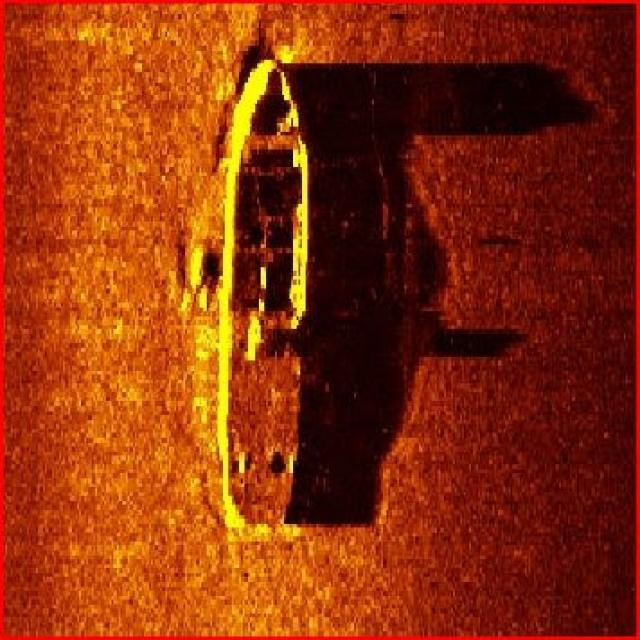shipwreck: (200, 49, 322, 545)
